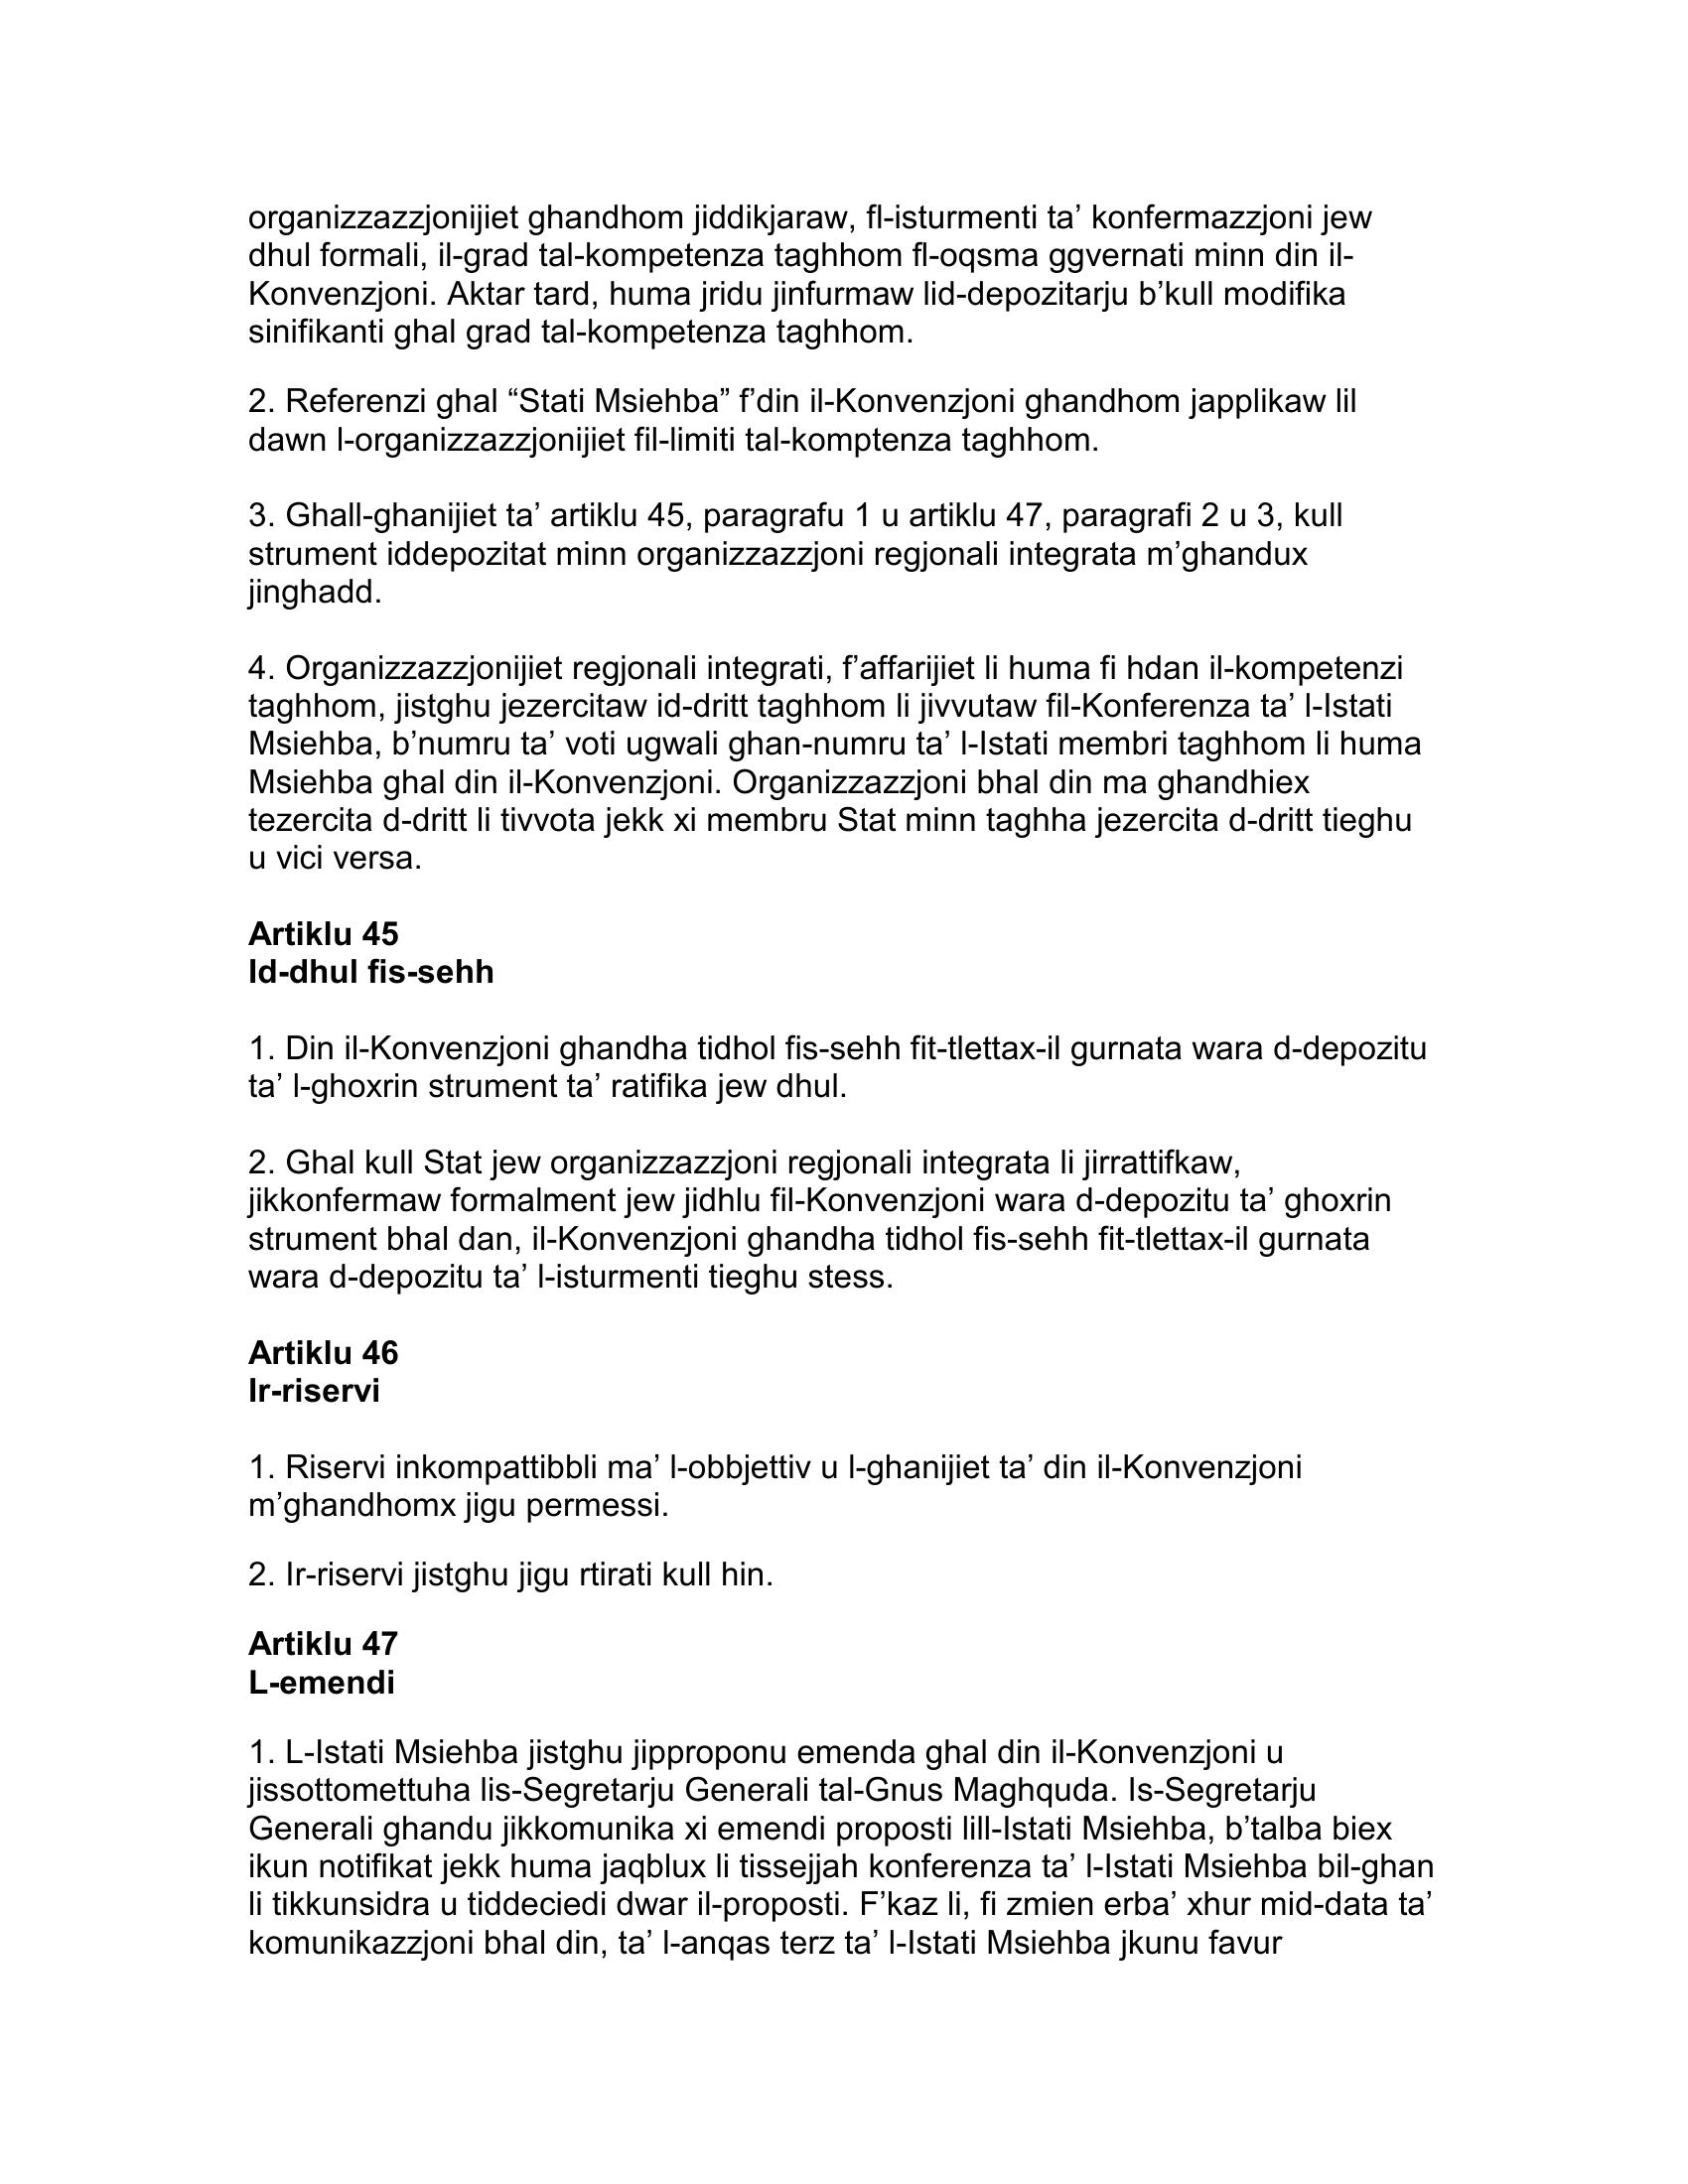text: (218, 172, 1475, 2035)
